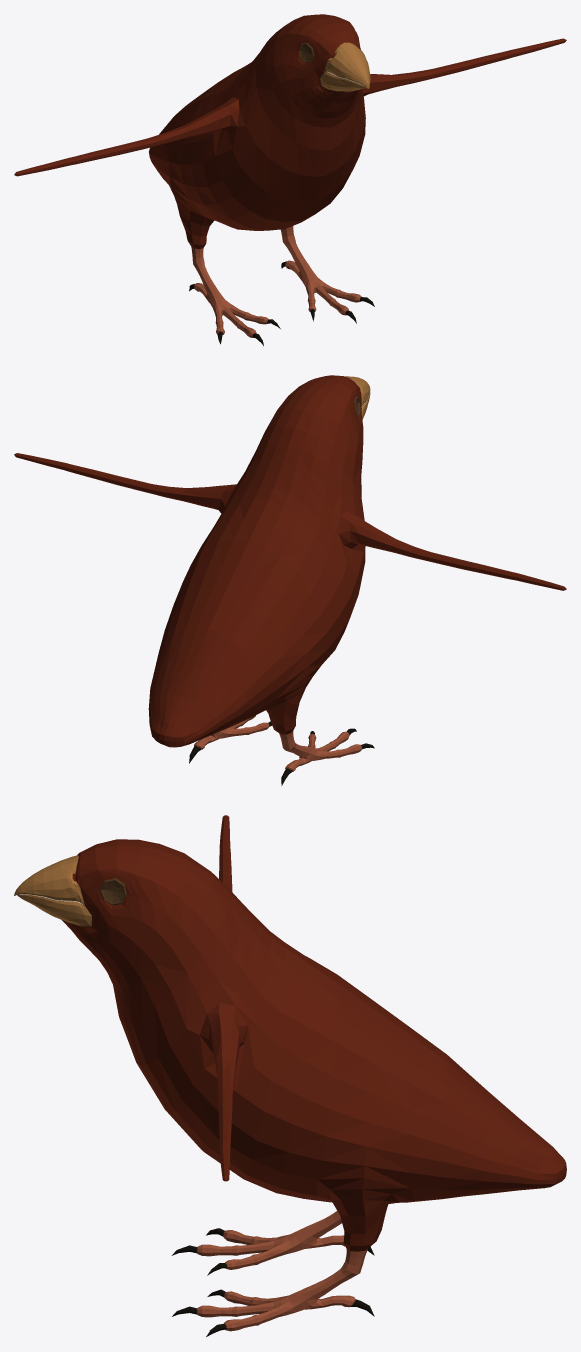
The model's file is finch_finch.obj.
The picture shows the model from 3 angles, top to bottom: view 1: azimuth 30°, elevation 25°; view 2: azimuth 150°, elevation 25°; view 3: azimuth 270°, elevation 25°; orthographic projection. The views are drawn at different scales.
Size of the model in its own units: 0.2022 by 0.1139 by 0.1295.
